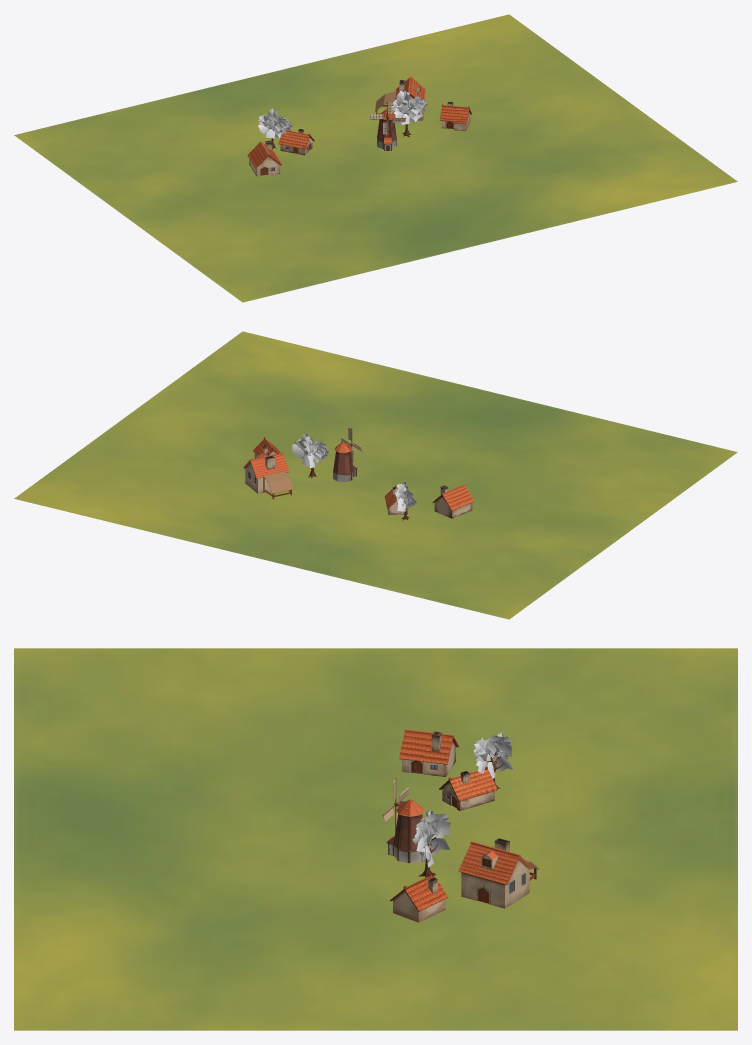
Rendered from flower field.glb.
3 views of the same model, one above another, from view 1: azimuth 30°, elevation 25°; view 2: azimuth 150°, elevation 25°; view 3: azimuth 270°, elevation 25° (orthographic). The views are drawn at different scales.
Visible parts, largest first — view 1: ground, house02, tree.001, house03, house04, tree.002, windmill; view 2: ground, house01, house02, tree.001, windmill, stable; view 3: ground, house01, house02, house03, house04, windmill, tree.001, tree.002.
Boxes of the visible parts, x1,y1,x2,y2 form: ground: (14, 14, 737, 302); house02: (247, 140, 281, 176); tree.001: (392, 90, 427, 137); house03: (439, 102, 471, 131); house04: (278, 129, 314, 155); tree.002: (258, 108, 292, 149); windmill: (377, 109, 396, 150); ground: (14, 331, 737, 619); house01: (243, 452, 289, 493); house02: (432, 484, 474, 518); tree.001: (292, 433, 328, 478); windmill: (333, 441, 357, 482); stable: (263, 471, 293, 499); ground: (14, 648, 737, 1030); house01: (458, 838, 532, 908); house02: (399, 729, 459, 776); house03: (390, 872, 448, 922); house04: (439, 766, 497, 810); windmill: (386, 798, 424, 863); tree.001: (412, 809, 450, 877); tree.002: (473, 732, 513, 790).
Bounding box in the file's own units: 200 × 18.8 × 160.
Materials: 5 (4 with a texture image).
